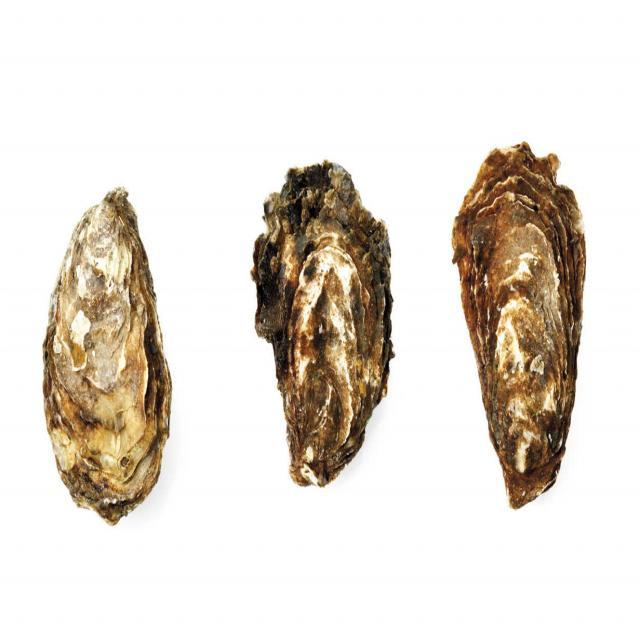Oyster- Indeterminate: (452, 144, 585, 508), (252, 161, 394, 486), (44, 188, 171, 523)
